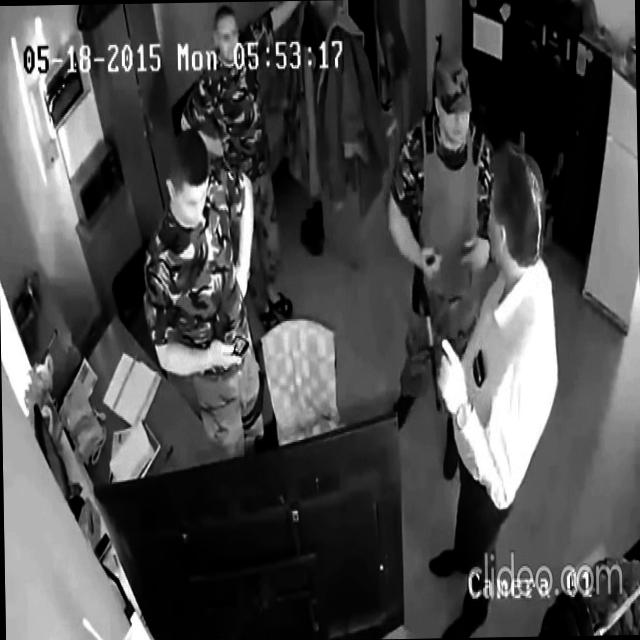gun: (540, 95, 576, 246), (411, 259, 444, 415), (430, 32, 444, 66)
person: (421, 139, 564, 638), (176, 1, 308, 330), (141, 126, 267, 458)
person with a gun: (383, 49, 502, 482)
